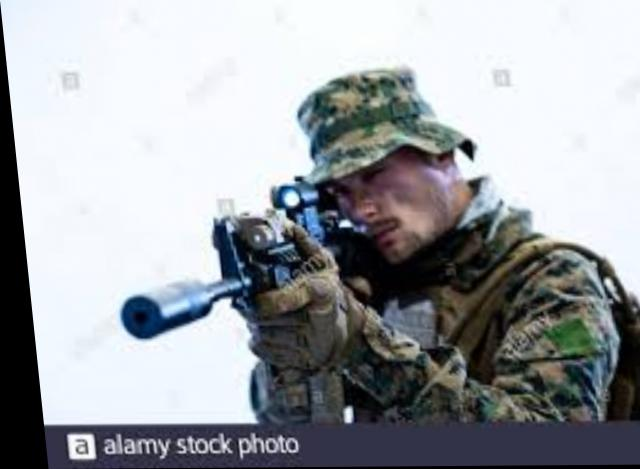other: (222, 78, 640, 416)
